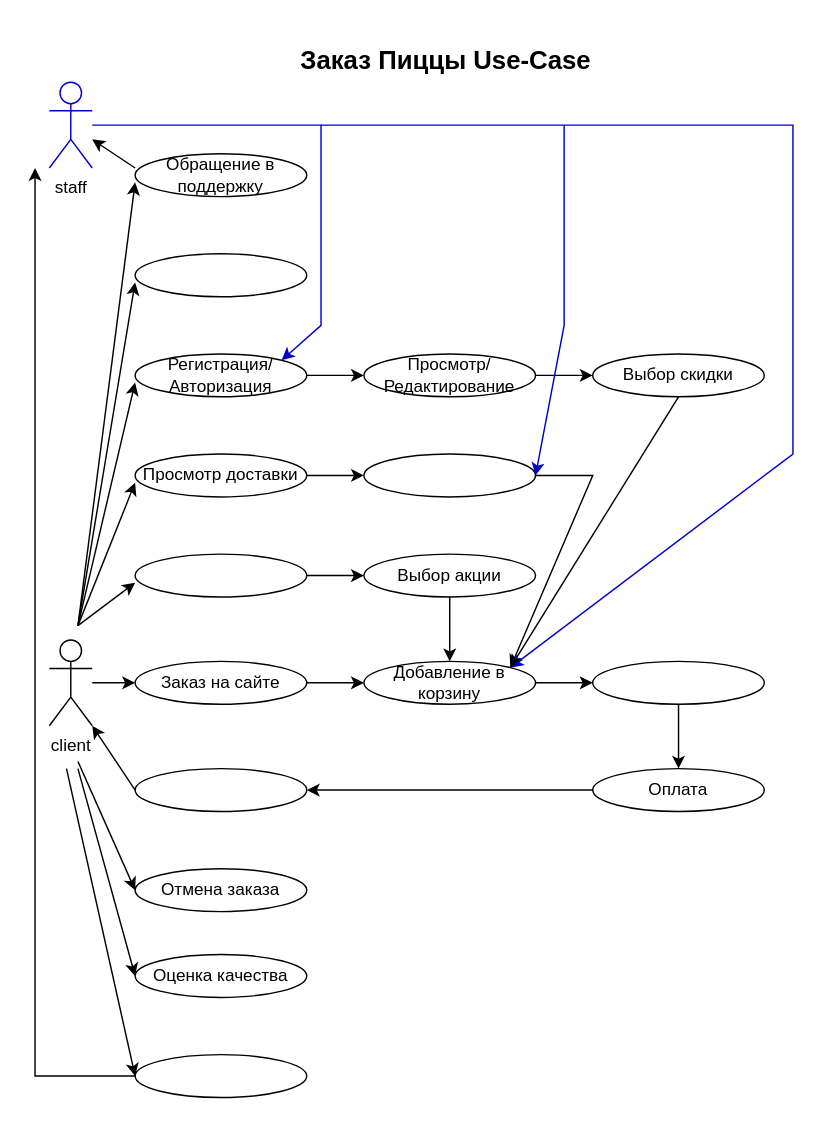
Image size: 829x1123. Some labels were removed from this diagram. The shapes that lost their labels are listed below. From the top down, each one's centre as x and y in pixels, then its label:
At (220,274): "Просмотр сайта".
At (449,475): "Выбор доставки".
At (220,575): "Просмотр меню".
At (677,682): "Выбор оплаты".
At (220,789): "Подтверждение заказа".
At (220,1075): "Заказ по звонку".
